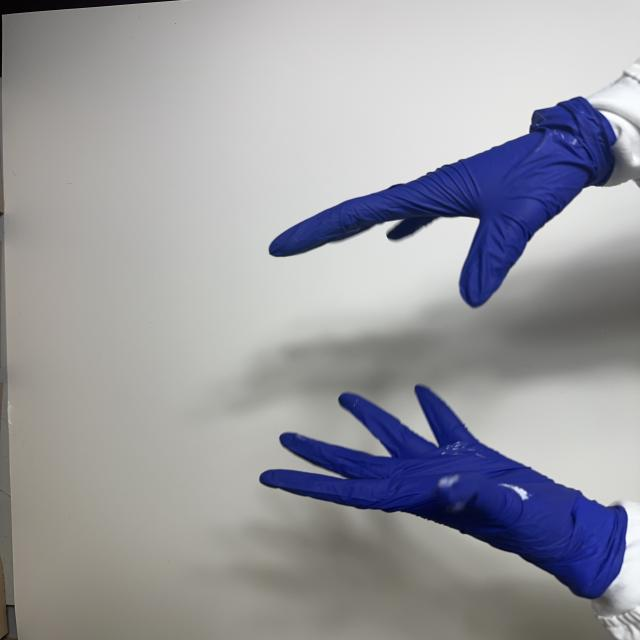gloves_contaminated: (261, 386, 627, 597), (270, 98, 613, 307)
